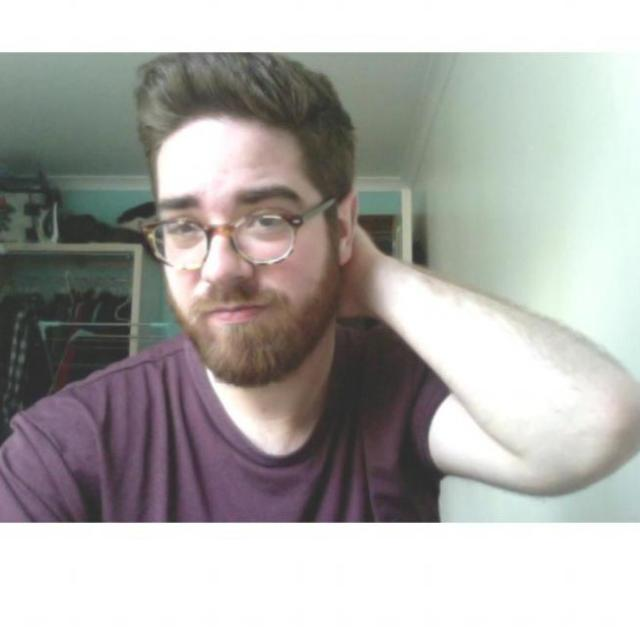live: (159, 123, 311, 375)
